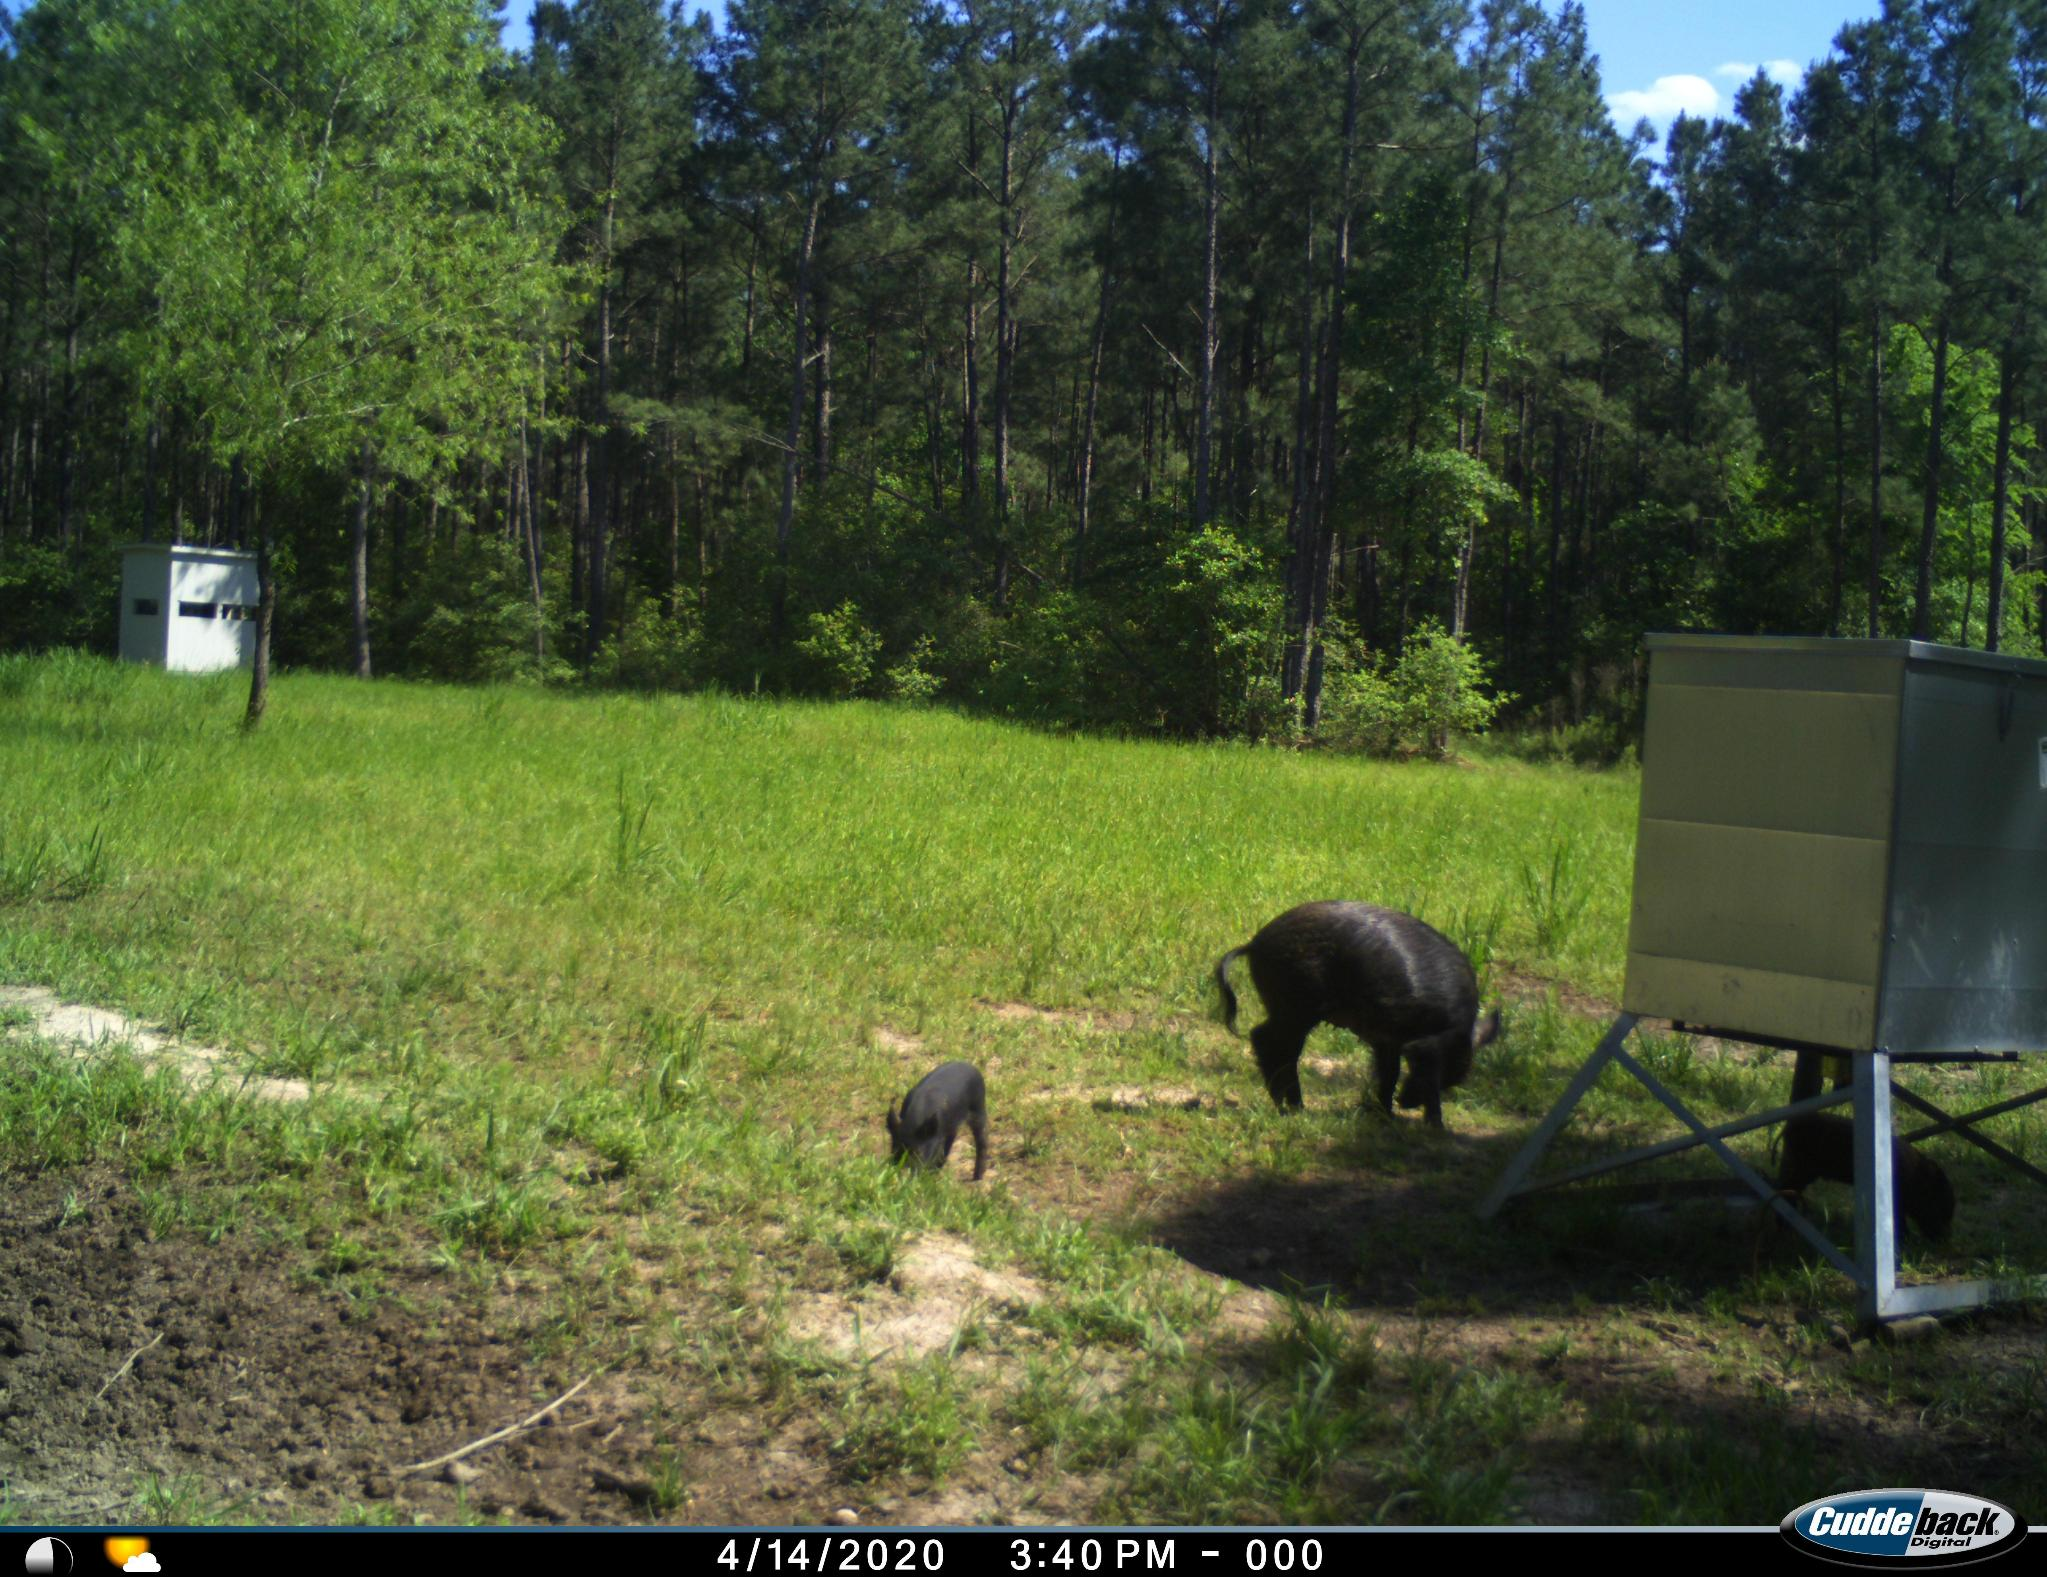Hog: (1206, 891, 1504, 1140), (873, 1054, 1002, 1189)
